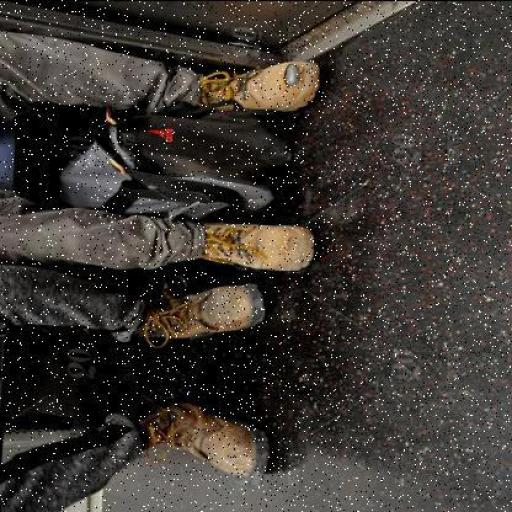safety_shoe: (129, 394, 271, 469), (127, 278, 269, 346), (208, 57, 313, 112), (202, 222, 317, 265)
